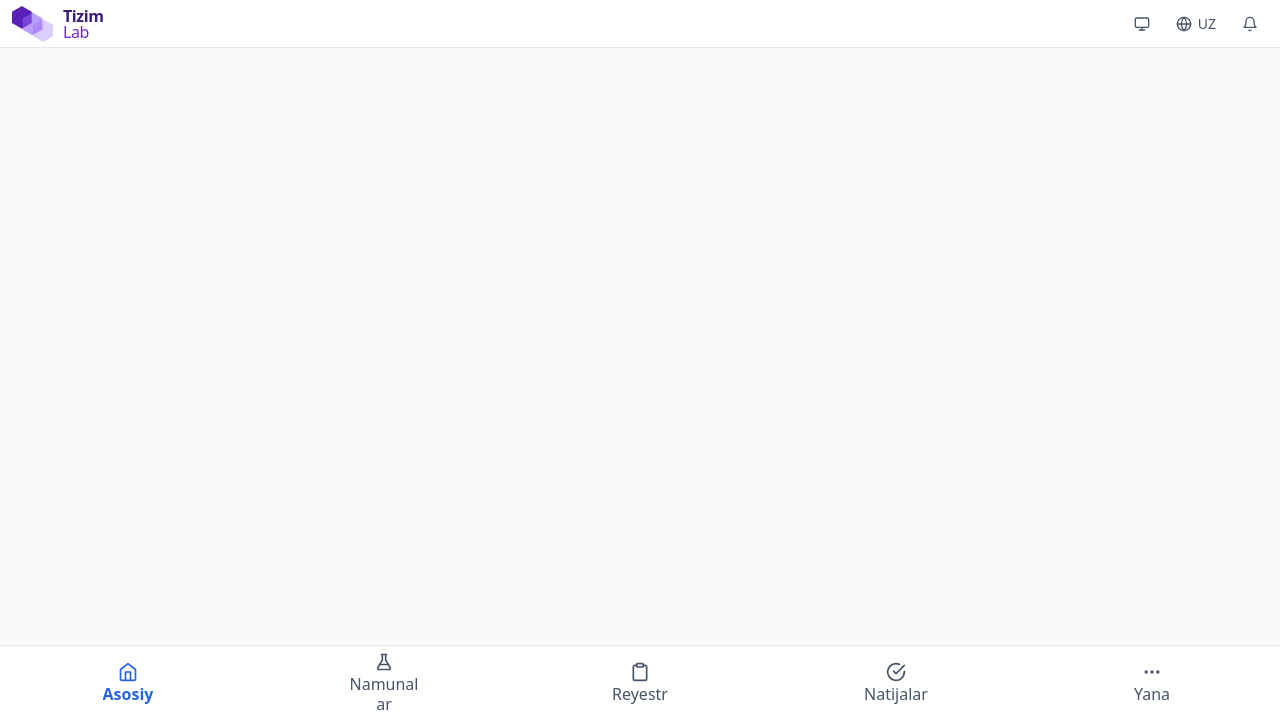
Test case: P14 — Telegram WebApp integratsiyasi va Mobil UI › 6. TelegramMobileShell: rol bo'yicha pastki navigatsiya va tegish maydoni (>=44px) › "Yana" tugmasi bosilganda pastdan sheet ochiladi
Click the button "Yana" at (1152, 683), box [1024, 646, 1279, 719]
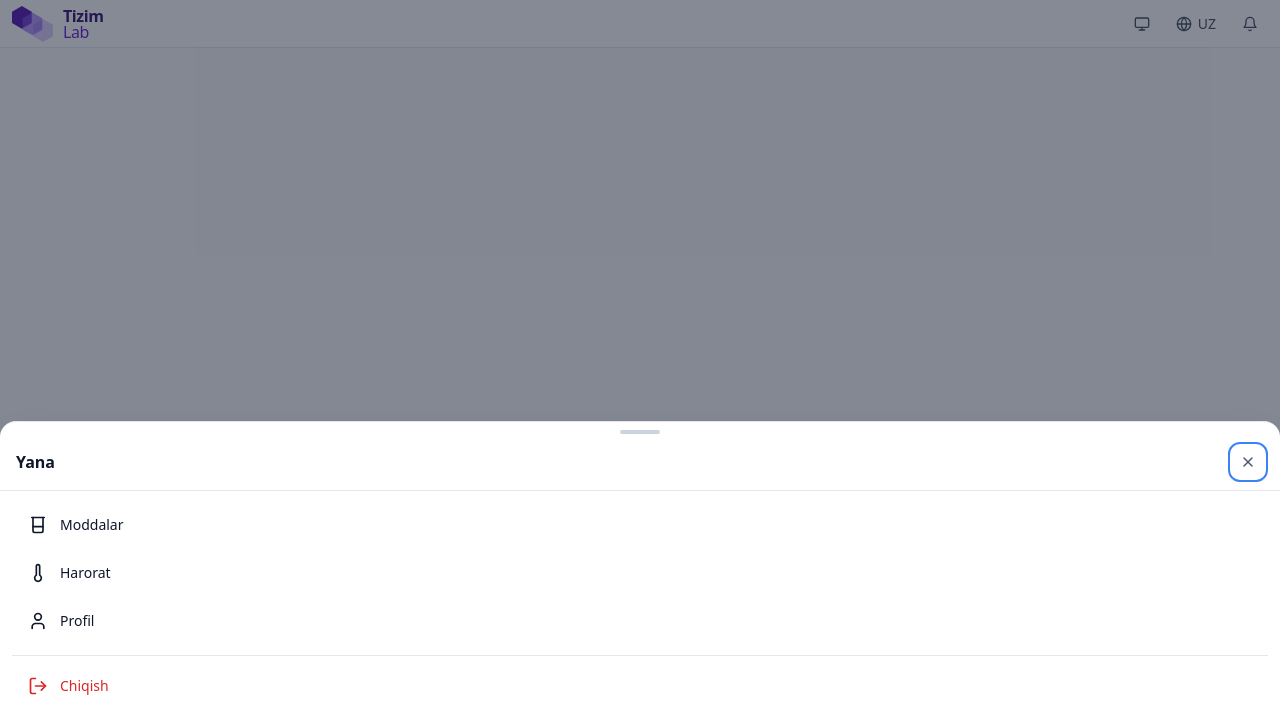
expect the dialog is shown: met, box [0, 421, 1279, 719]
expect the link "Moddalar" is shown: met, box [28, 515, 124, 535]
